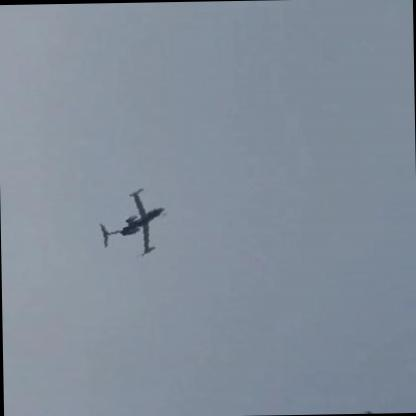plane: (92, 186, 172, 262)
